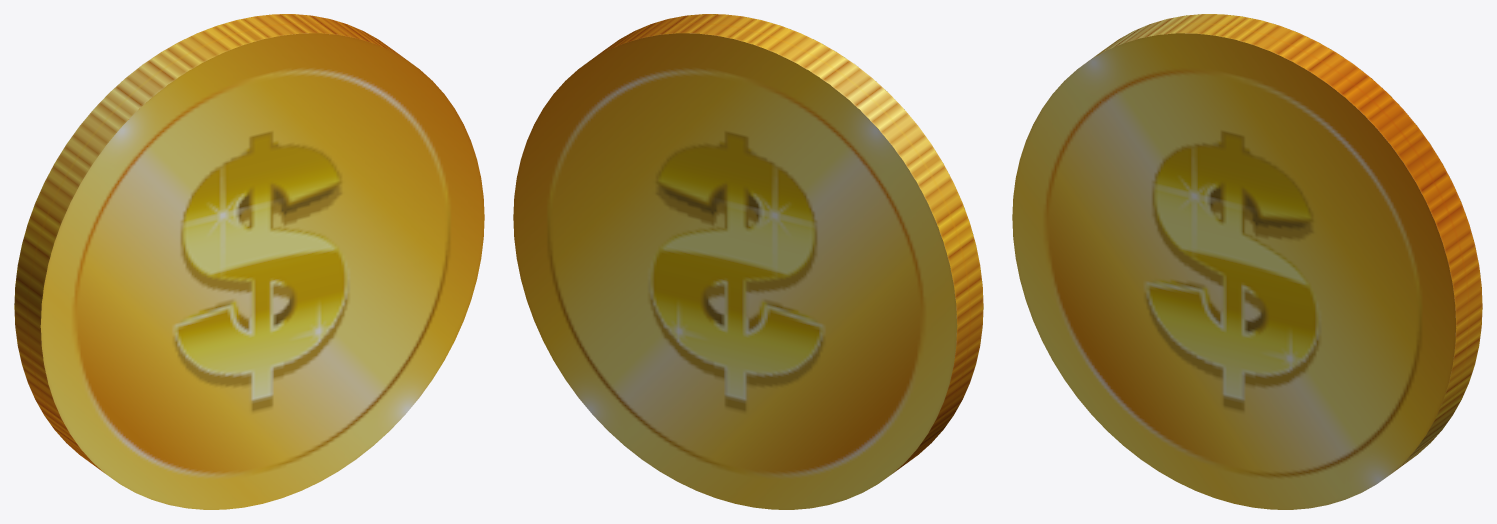
The model's file is coin.FBX.
3 renders of one model, left to right at view 1: azimuth 30°, elevation 25°; view 2: azimuth 150°, elevation 25°; view 3: azimuth 330°, elevation 25°, orthographic.
Parts seen in each view (by area): view 1: Cylinder005; view 2: Cylinder005; view 3: Cylinder005.
Boxes of the visible parts, bbox=[...] form: Cylinder005: bbox=[14, 14, 484, 509]; Cylinder005: bbox=[513, 14, 983, 509]; Cylinder005: bbox=[1012, 14, 1482, 509].
Bounding box in the file's own units: 16.93 × 16.93 × 1.75.
1 material, 1 textured.
